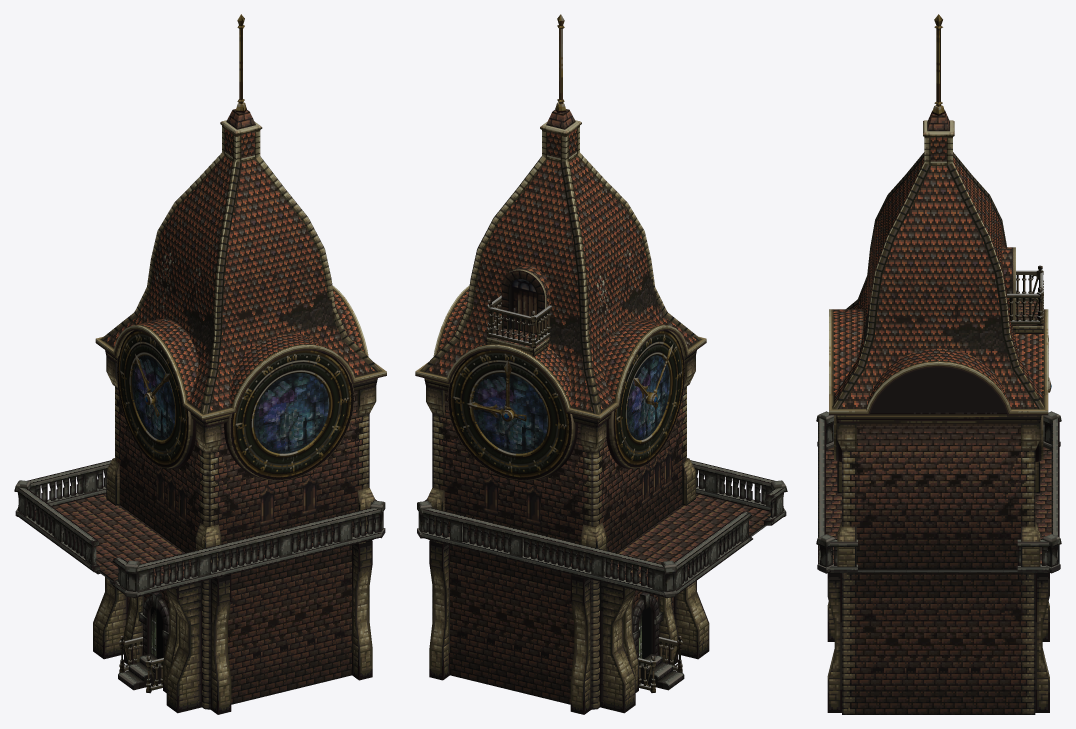
Rendered from EnvBdgMD_Clocktower_A.FBX.
3 renders of one model, left to right at view 1: azimuth 30°, elevation 25°; view 2: azimuth 150°, elevation 25°; view 3: azimuth 270°, elevation 25°, orthographic. The views are drawn at different scales.
Parts seen in each view (by area): view 1: EnvBdgMD_Clocktower_A; view 2: EnvBdgMD_Clocktower_A; view 3: EnvBdgMD_Clocktower_A.
Boxes of the visible parts, x1=… form: EnvBdgMD_Clocktower_A: x1=14, y1=14, x2=386, y2=714; EnvBdgMD_Clocktower_A: x1=415, y1=14, x2=787, y2=714; EnvBdgMD_Clocktower_A: x1=816, y1=14, x2=1061, y2=714.
Bounding box in the file's own units: 972 × 2260 × 762.
